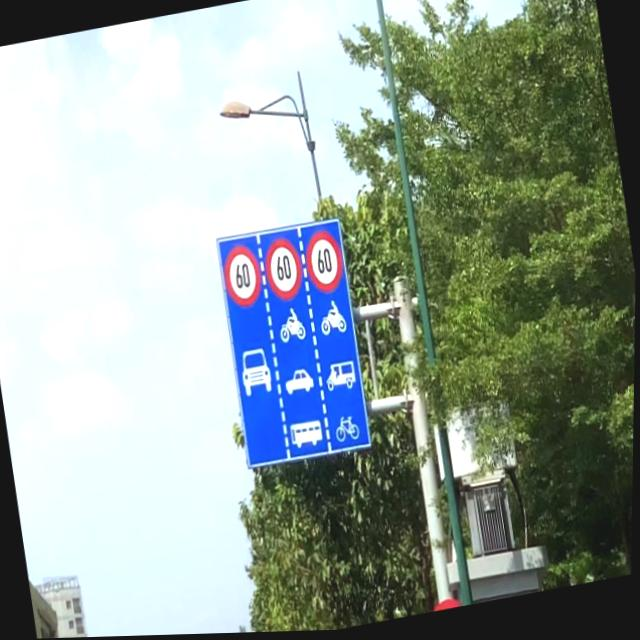Toc do toi da cho phep: (302, 229, 348, 298), (262, 236, 308, 305), (221, 243, 267, 312)
